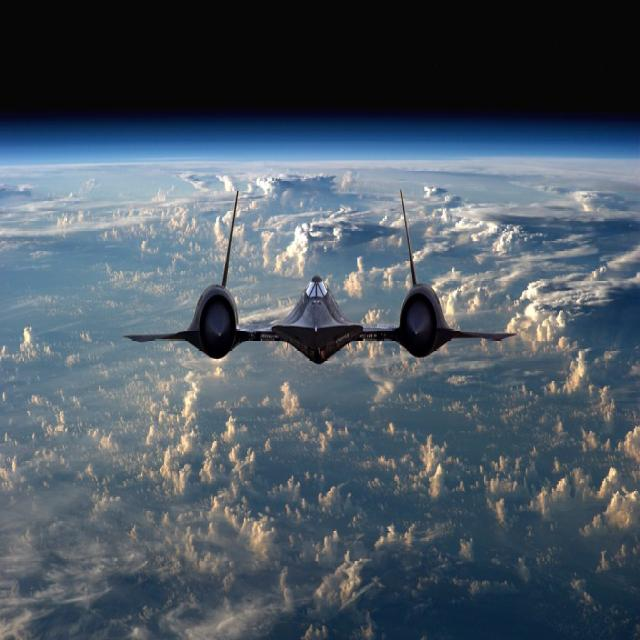MIL_Plane: (121, 189, 517, 365)
